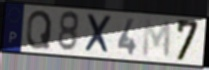4: (116, 17, 138, 57)
7: (174, 18, 200, 63)
8: (56, 10, 81, 54)
M: (141, 18, 173, 60)
Q: (24, 9, 54, 50)
X: (83, 13, 113, 56)
